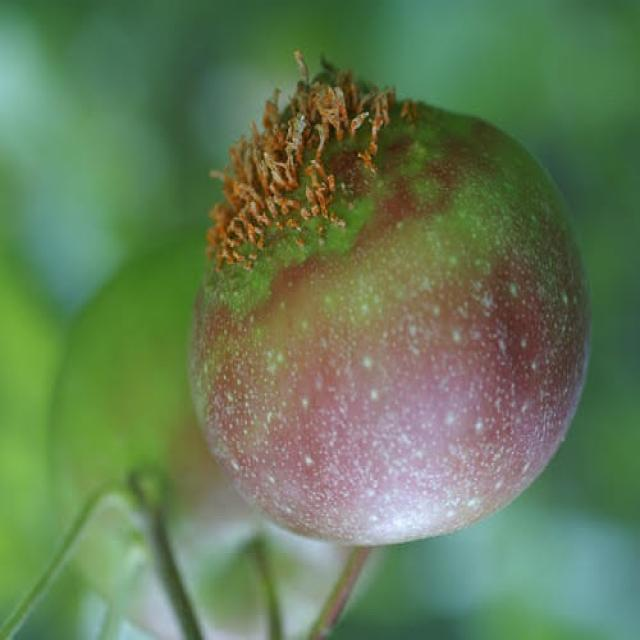Gymnosporangium_Rusts: (184, 50, 592, 548)
